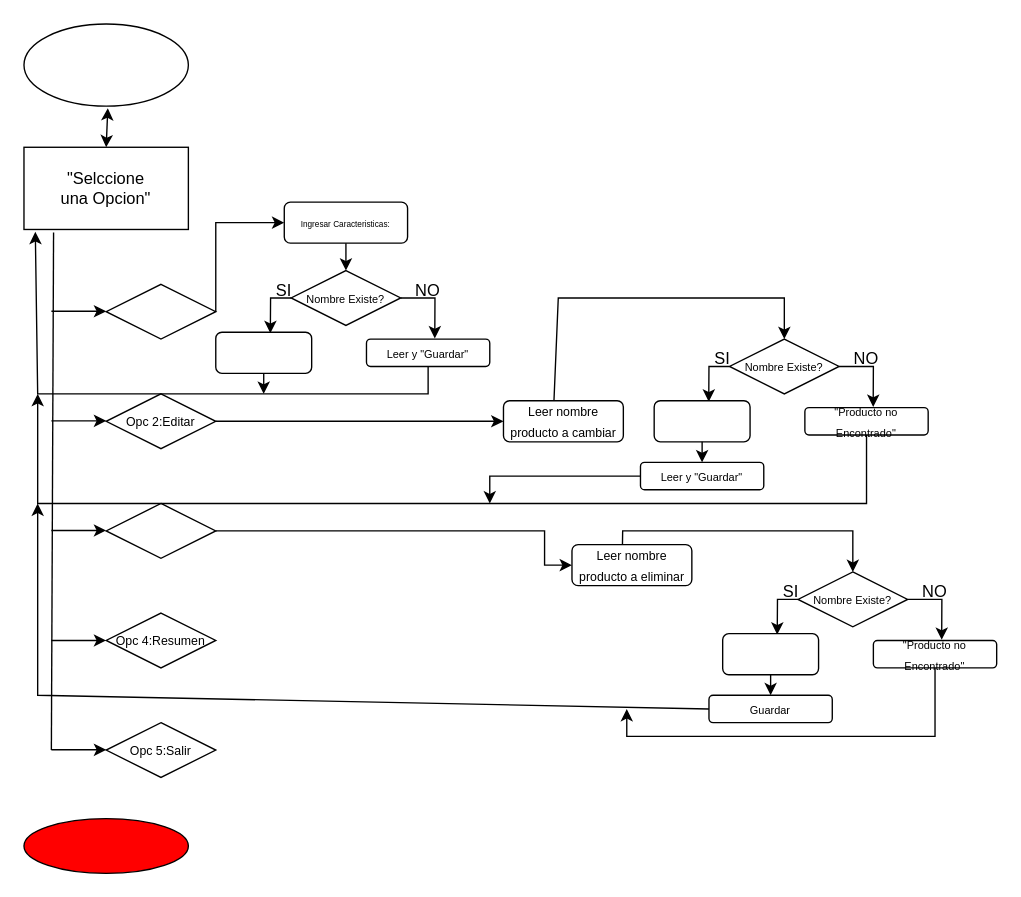
The diagram is 1021 pixels wide and 897 high, and some of its shapes have lost their labels. The shapes that lost their labels are listed below. From the top down, each one's centre as x and y in pixels, then its label:
pixel 105 64: INICIO
pixel 160 311: Opc 1:Agregar
pixel 263 352: Error: Nombre ya existe
pixel 701 420: Ingresar: Nuevas Caracteristicas
pixel 160 530: Opc 3:Eliminar
pixel 770 653: Eliminar Prodcuto (MOVER)
pixel 105 845: Fin
